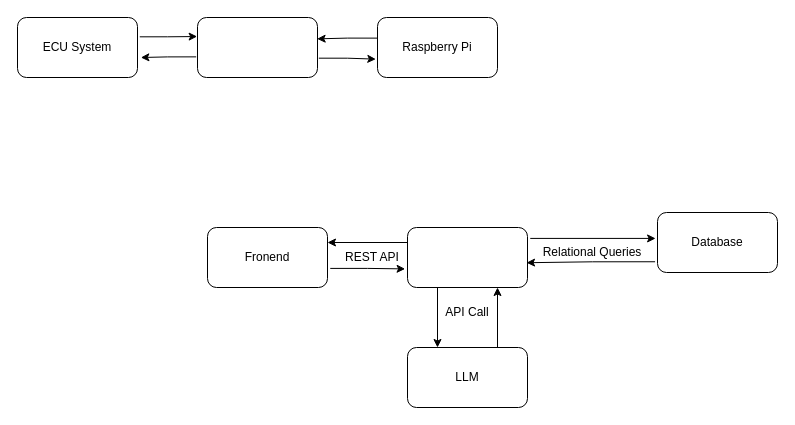
Some shapes in this 795 by 425 pixel diagram are drawn without their labels. The centre of each missing label's shape, as x and y in pixels:
"Backend" goes at pixel 467 257.
"ELM327 Dongle" goes at pixel 257 47.
